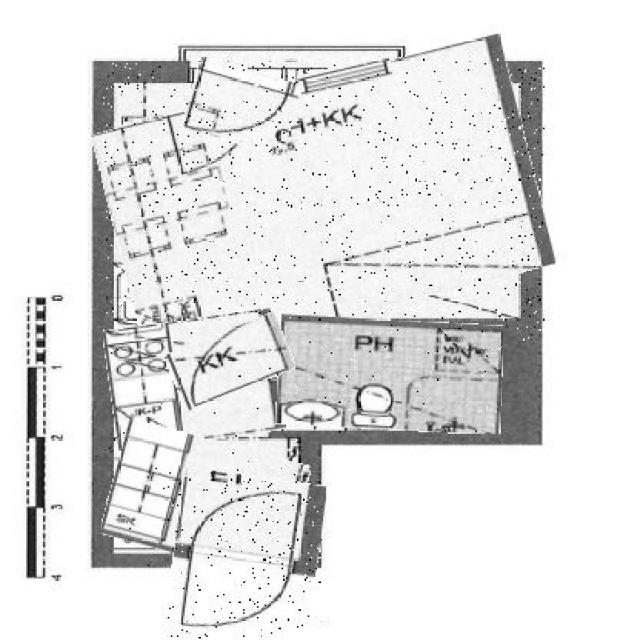door: (168, 472, 322, 640), (184, 63, 298, 149), (168, 322, 292, 400)
window: (298, 60, 392, 92)
zone: (103, 58, 545, 342), (106, 429, 305, 569), (277, 317, 503, 432), (108, 314, 283, 444)
